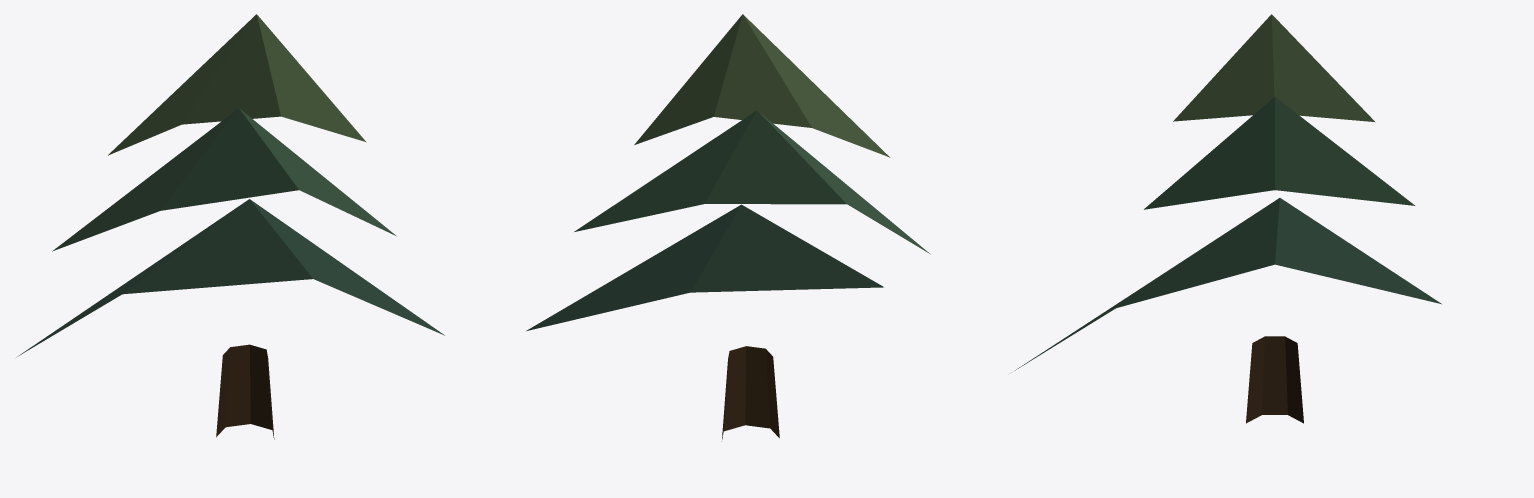
Rendered from pine.gltf.
3 views of the same model, side by side, from view 1: azimuth 30°, elevation 25°; view 2: azimuth 150°, elevation 25°; view 3: azimuth 270°, elevation 25° (orthographic).
Visible parts, largest first — view 1: pine; view 2: pine; view 3: pine.
Part boxes in pixels (bbox=[...]): pine: bbox=[16, 14, 444, 439]; pine: bbox=[526, 14, 930, 441]; pine: bbox=[1011, 14, 1441, 423].
Size of the model in its own units: 3.13 by 2.77 by 3.09.
